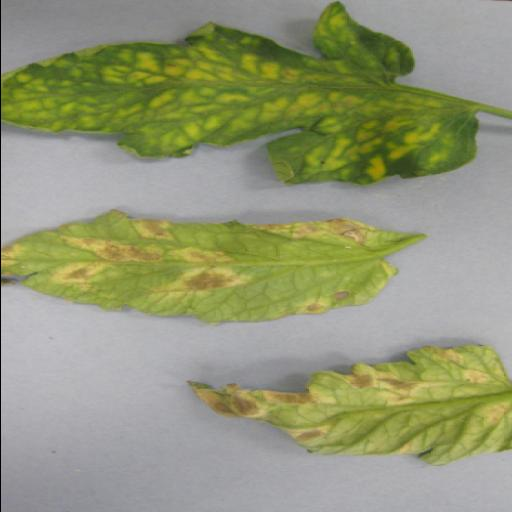Leaf Mold: (0, 206, 407, 325), (188, 342, 512, 467)
